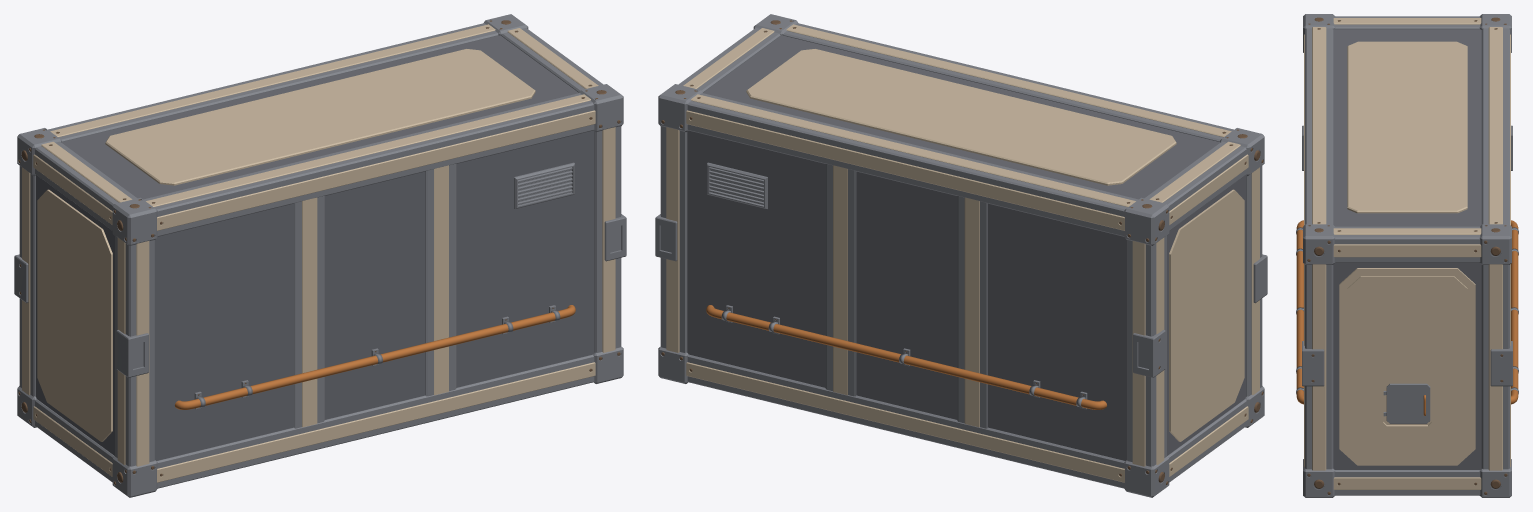
The model's file is container.fbx.
The picture shows the model from 3 angles, left to right: view 1: azimuth 30°, elevation 25°; view 2: azimuth 150°, elevation 25°; view 3: azimuth 270°, elevation 25°; orthographic projection. The views are drawn at different scales.
Visible parts, largest first — view 1: Cube, Cube.019, Cube.004, Cube.020, Cube.008, Cube.002, Cube.009, Cube.017, Cube.001, Cube.018, Cube.011, Cube.003 (+7 smaller); view 2: Cube, Cube.019, Cube.004, Cube.020, Cube.008, Cube.002, Cube.009, Cube.017, Cube.001, Cube.018, Cube.011, Cube.003 (+7 smaller); view 3: Cube.021, Cube.019, Cube, Cube.003, Cube.009, Cube.004, Cube.002, Cube.010, Cube.001, Cube.006, BézierCurve, Cube.007 (+5 smaller).
Boxes of the visible parts, <box> form: Cube: <box>36,35,594,460</box>; Cube.019: <box>105,49,535,185</box>; Cube.004: <box>48,23,594,488</box>; Cube.020: <box>37,189,112,441</box>; Cube.008: <box>157,110,595,482</box>; Cube.002: <box>19,126,621,466</box>; Cube.009: <box>50,24,590,206</box>; Cube.017: <box>294,164,456,428</box>; Cube.001: <box>17,14,623,497</box>; Cube.018: <box>302,165,448,427</box>; Cube.011: <box>136,127,615,466</box>; Cube.003: <box>35,28,603,482</box>; Cube: <box>687,35,1245,460</box>; Cube.019: <box>746,49,1176,185</box>; Cube.004: <box>687,23,1233,488</box>; Cube.020: <box>1169,189,1244,441</box>; Cube.008: <box>686,110,1124,482</box>; Cube.002: <box>660,126,1262,466</box>; Cube.009: <box>691,24,1231,206</box>; Cube.017: <box>825,164,987,428</box>; Cube.001: <box>658,14,1264,497</box>; Cube.018: <box>833,165,979,427</box>; Cube.011: <box>666,127,1145,466</box>; Cube.003: <box>678,28,1246,482</box>; Cube.021: <box>1339,268,1475,465</box>; Cube.019: <box>1347,41,1467,213</box>; Cube: <box>1333,29,1481,469</box>; Cube.003: <box>1334,16,1480,495</box>; Cube.009: <box>1312,27,1502,224</box>; Cube.004: <box>1305,28,1509,224</box>; Cube.002: <box>1305,265,1509,469</box>; Cube.010: <box>1312,264,1502,470</box>; Cube.001: <box>1303,14,1511,497</box>; Cube.006: <box>1333,244,1481,489</box>; BézierCurve: <box>1296,220,1518,404</box>; Cube.007: <box>1333,18,1481,234</box>.
Bounding box in the file's own units: 2664 × 1446 × 1110.
